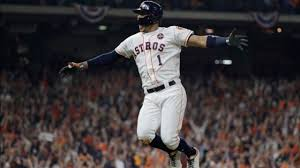baseball player: (59, 1, 250, 168)
